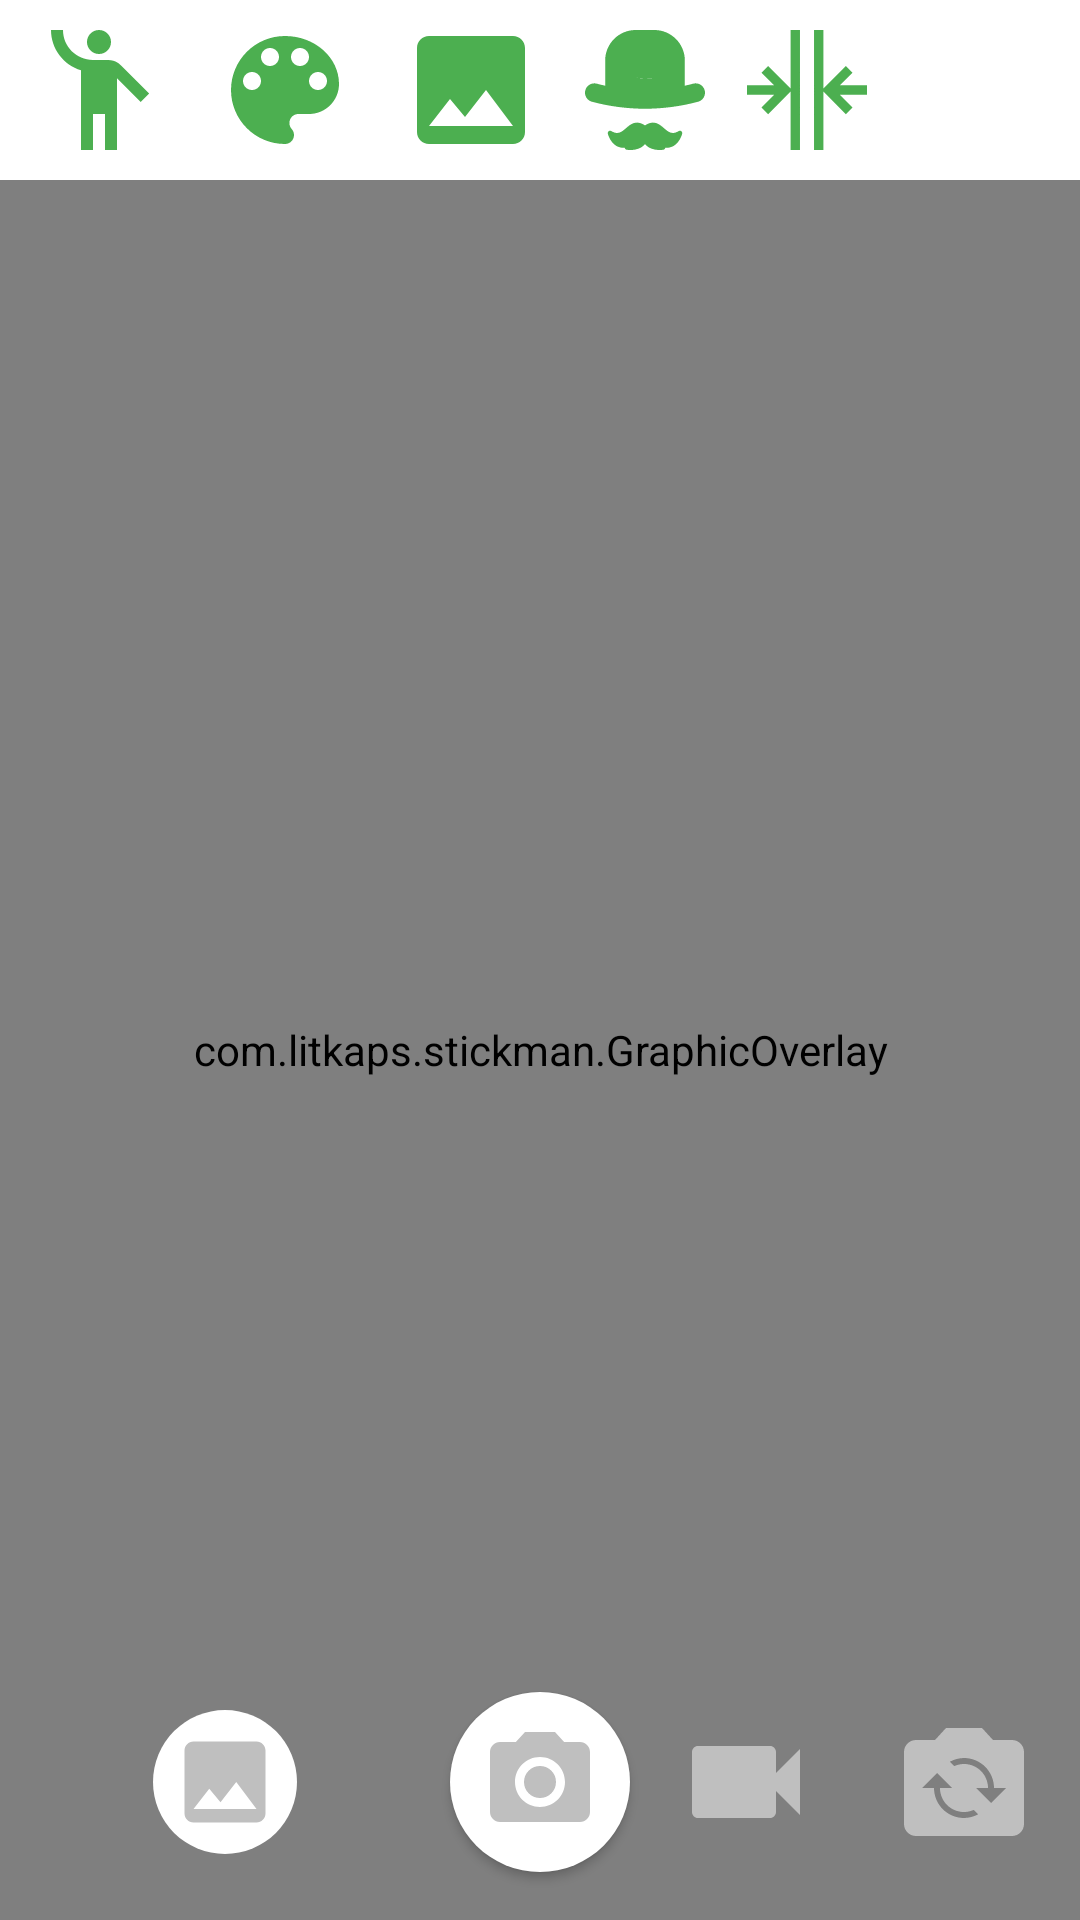

Locate icon controls on the screen. Image size 1080px×1920px, boxes as (x1, y1, x2, y2).
emoji people: (51, 30, 149, 150)
flip camera: (904, 1728, 1024, 1836)
hat: (585, 30, 705, 150)
record mode toggle: (692, 1746, 800, 1818)
width: (747, 30, 867, 150)
